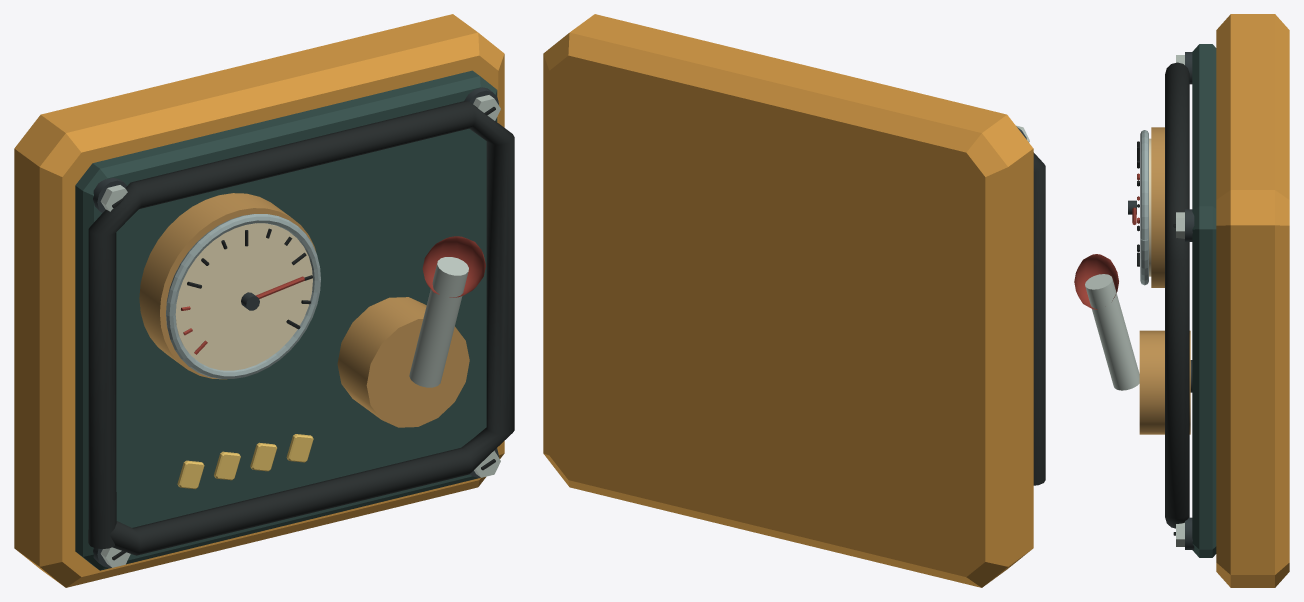
Rendered from seal-working.glb.
The picture shows the model from 3 angles, left to right: view 1: azimuth 30°, elevation 25°; view 2: azimuth 150°, elevation 25°; view 3: azimuth 270°, elevation 25°; orthographic projection. The views are drawn at different scales.
Visible parts, largest first — view 1: RB_seal_working; view 2: RB_seal_working; view 3: RB_seal_working.
Boxes of the visible parts, x1=… form: RB_seal_working: x1=14, y1=14, x2=514, y2=587; RB_seal_working: x1=543, y1=14, x2=1045, y2=587; RB_seal_working: x1=1074, y1=14, x2=1289, y2=587.
Size of the model in its own units: 0.46 by 0.43 by 0.211.
